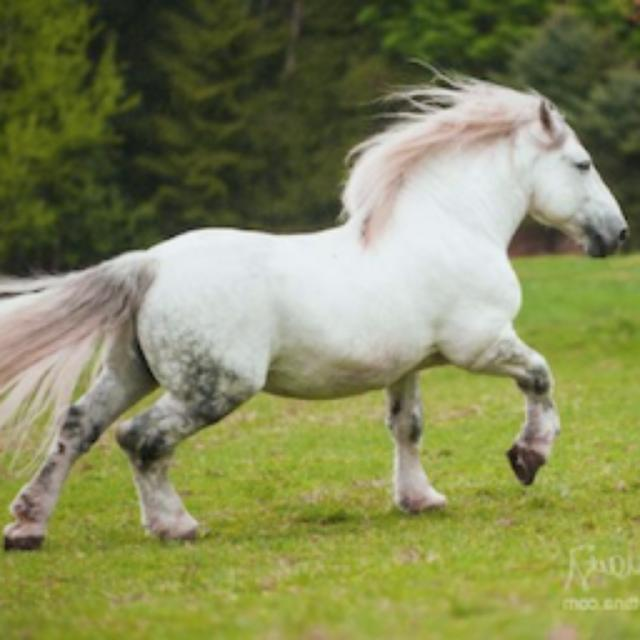Horse: (2, 65, 638, 555)
